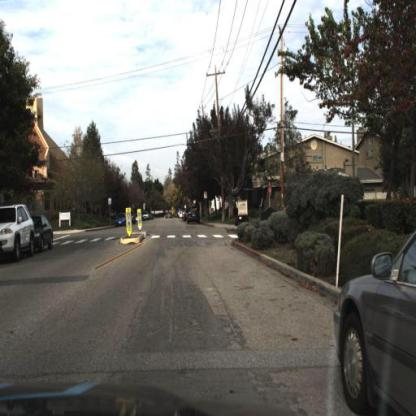car: (332, 222, 416, 415), (0, 204, 34, 264), (30, 214, 53, 252), (187, 204, 202, 225), (112, 209, 127, 228)
